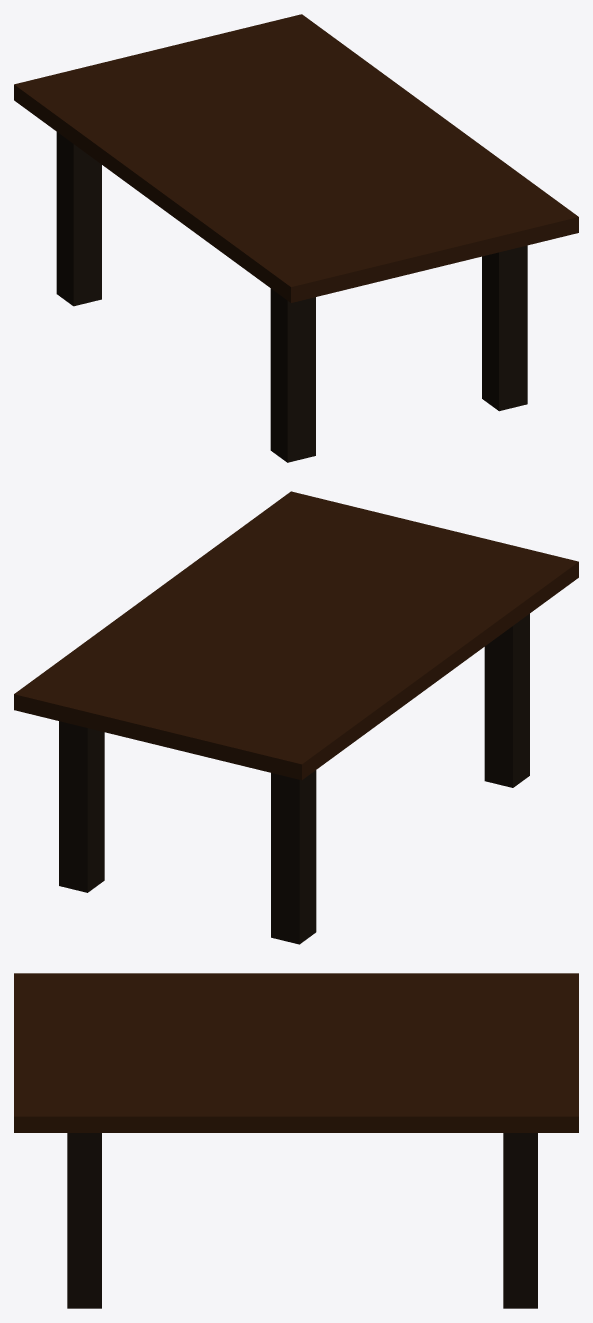
File: smallTable.dae
3 renders of one model, top to bottom at view 1: azimuth 30°, elevation 25°; view 2: azimuth 150°, elevation 25°; view 3: azimuth 270°, elevation 25°, orthographic.
Parts seen in each view (by area): view 1: top, leg4, leg3, leg1; view 2: top, leg1, leg2, leg4; view 3: top, leg2, leg3.
Boxes of the visible parts, x1,y1,x2,y2 form: top: [14, 14, 578, 302]; leg4: [270, 288, 315, 462]; leg3: [482, 245, 527, 411]; leg1: [56, 132, 101, 306]; top: [14, 491, 578, 780]; leg1: [271, 770, 316, 944]; leg2: [59, 721, 104, 892]; leg4: [484, 613, 529, 787]; top: [14, 973, 578, 1132]; leg2: [503, 1133, 537, 1308]; leg3: [67, 1133, 101, 1308].
Bounding box in the file's own units: 23.62 × 39.37 × 15.71.
